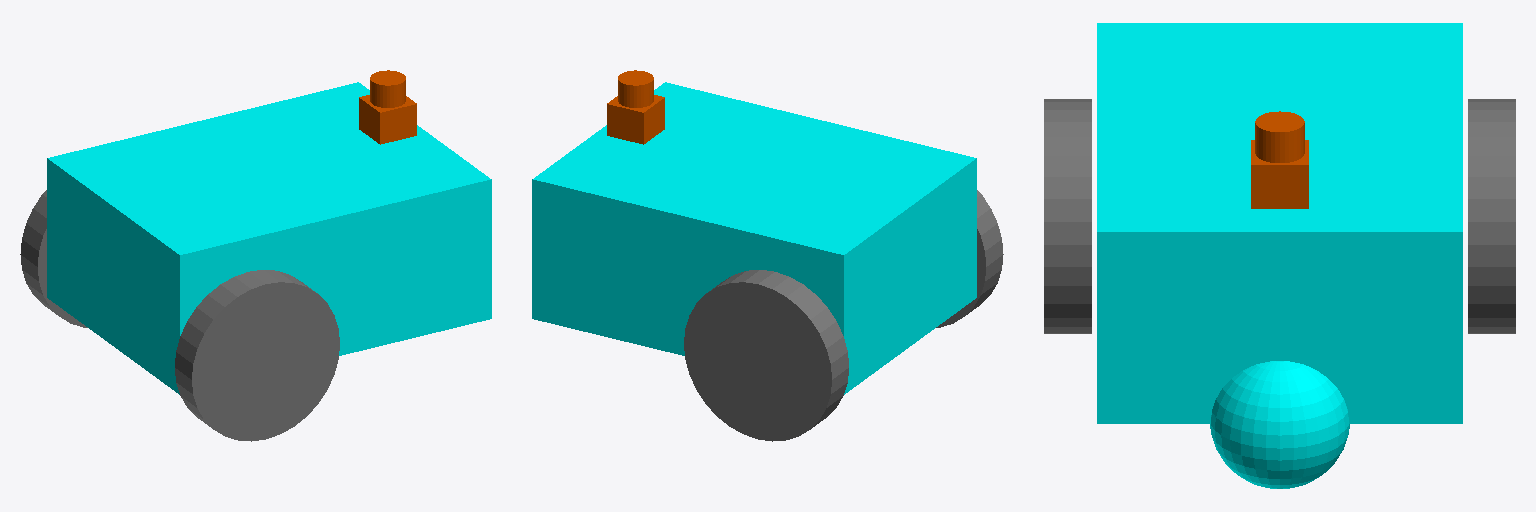
The robot description file, URDF, robot "orthopillar":
<?xml version="1.0"?>
<robot name="orthopillar"
  xmlns:xacro="http://ros.org/wiki/xacro">
  <!-- _________________________________________________________Color_________________________________________________________-->

  <material name="Cyan">
    <color rgba="0 1.0 1.0 1.0"/>
  </material>

  <material name="Gray">
    <color rgba="0.5 0.5 0.5 1.0"/>
  </material>

  <!-- _________________________________________________________Robot Base_________________________________________________________ -->
  <link name="base_footprint"/>

  <joint name="base_joint" type="fixed">
    <parent link="base_footprint"/>
    <child link="base_link"/>
    <origin xyz="0.0 0.0 -0.15" rpy="0 0 0"/>
  </joint>

  <link name="base_link">
    <visual>
      <geometry>
        <box size="0.42 0.31 0.18"/>
      </geometry>
      <material name="Cyan"/>
    </visual>

    <collision>
      <geometry>
        <box size="0.42 0.31 0.18"/>
      </geometry>
    </collision>

    <inertial>
      <origin xyz="0.0 0.0 0.0" rpy="1.570796 0.0 1.570796"/>
      <mass value="15"/>
      <inertia ixx="0.261" ixy="0.0" ixz="0.0" iyy="0.340625" iyz="0.0" izz="0.160625"/>
    </inertial>
  </link>

  <!-- _________________________________________________________Wheel left_________________________________________________________ -->
  
  <joint name="drivewhl_l_joint" type="continuous">
    <parent link="base_link"/>
    <child link="drivewhl_l_link"/>
    <origin xyz="-0.12 0.18 -0.05" rpy="0 0 0"/>
    <axis xyz="0 1 0"/>
  </joint>

  <link name="drivewhl_l_link">
    <visual>
      <origin xyz="0 0 0" rpy="1.570796 0 0"/>
      <geometry>
        <cylinder radius="0.1" length="0.04"/>
      </geometry>
      <material name="Gray"/>
    </visual>

    <collision>
      <origin xyz="0 0 0" rpy="1.570796 0 0"/>
      <geometry>
        <cylinder radius="0.1" length="0.04"/>
      </geometry>
    </collision>

    <inertial>
      <origin xyz="0.0 0.0 0.0" rpy="1.570796 0.0 0.0"/>
      <mass value="0.5"/>
      <inertia ixx="0.001" ixy="0.0" ixz="0.0" iyy="0.001" iyz="0.0" izz="0.0025"/>
    </inertial>

  </link>

  <!-- _________________________________________________________Wheel right_________________________________________________________ -->
  
  <joint name="drivewhl_r_joint" type="continuous">
    <parent link="base_link"/>
    <child link="drivewhl_r_link"/>
    <origin xyz="-0.12 -0.18 -0.05" rpy="0 0 0"/>
    <axis xyz="0 1 0"/>
  </joint>

  <link name="drivewhl_r_link">
    <visual>
      <origin xyz="0 0 0" rpy="1.570796 0 0"/>
      <geometry>
        <cylinder radius="0.1" length="0.04"/>
      </geometry>
      <material name="Gray"/>
    </visual>

    <collision>
      <origin xyz="0 0 0" rpy="1.570796 0 0"/>
      <geometry>
        <cylinder radius="0.1" length="0.04"/>
      </geometry>
    </collision>

    <inertial>
      <origin xyz="0.0 0.0 0.0" rpy="1.570796 0.0 0.0"/>
      <mass value="0.5"/>
      <inertia ixx="0.001" ixy="0.0" ixz="0.0" iyy="0.001" iyz="0.0" izz="0.0025"/>
    </inertial>

  </link>

  <!-- _________________________________________________________Caster Wheel_________________________________________________________ -->

  <joint name="caster_joint" type="fixed">
    <parent link="base_link"/>
    <child link="front_caster"/>
    <origin xyz="0.2 0.0 -0.09" rpy="0 0 0"/>
  </joint>

  <link name="front_caster">
    <visual>
      <geometry>
        <sphere radius="0.06"/>
      </geometry>
      <material name="Cyan"/>
    </visual>

    <collision>
      <origin xyz="0 0 0" rpy="0 0 0"/>
      <geometry>
        <sphere radius="0.06"/>
      </geometry>
    </collision>

    <inertial>
      <origin xyz="0.0 0.0 0.0" rpy="0.0 0.0 0.0"/>
      <mass value="0.05"/>
      <inertia ixx="0.000072" ixy="0.0" ixz="0.0" iyy="0.000072" iyz="0.0" izz="0.000072"/>
    </inertial>

  </link>

  <!-- ___________________________________________________________________Laser___________________________________________________________________-->
  
  <joint name="laser_joint" type="fixed">
    <parent link="base_link"/>
    <child link="laser_link"/>
    <origin rpy="0  0  0" xyz="0.16 0 0.12"/>
    <axis xyz="0  0  0"/>
  </joint>

  <link name="laser_link">
    <inertial>
      <mass value="0.1"/>
      <origin rpy="0  0  0" xyz="0  0  0"/>
      <inertia ixx="0" ixy="0" ixz="0" iyy="0" iyz="0" izz="0"/>
    </inertial>

    <collision name="collision-base">
      <origin rpy="0  0  0" xyz="0  0  0"/>
      <geometry>
        <box size="0.05 0.05 0.041"/>
      </geometry>
    </collision>

    <visual name="visual-base">
      <origin rpy="0  0  0" xyz="0  0  0"/>
      <geometry>
        <box size="0.05 0.05 0.041"/>
      </geometry>
    </visual>

    <collision name="collision-top">
      <origin rpy="0  0  0" xyz="0  0  0.035"/>
      <geometry>
        <cylinder length="0.029" radius="0.021"/>
      </geometry>
    </collision>

    <visual name="visual-top">
      <origin rpy="0  0  0" xyz="0  0  0.035"/>
      <geometry>
        <cylinder length="0.029" radius="0.021"/>
      </geometry>
    </visual>

  </link>

</robot>

--- Render facts (derived) ---
3 views of the same robot in one strip: view 1: azimuth 30°, elevation 25°; view 2: azimuth 150°, elevation 25°; view 3: azimuth 270°, elevation 25° (orthographic).
Robot: orthopillar — 6 links, 5 joints (2 continuous, 3 fixed); root link base_footprint; default pose: every joint at zero.
Visible links, largest first — view 1: base_link, drivewhl_r_link, laser_link, drivewhl_l_link; view 2: base_link, drivewhl_l_link, laser_link, drivewhl_r_link; view 3: base_link, front_caster, drivewhl_l_link, drivewhl_r_link, laser_link.
Boxes of the visible links, box(x1,y1,x2,y2) form: base_link: box(47, 82, 491, 394); drivewhl_r_link: box(175, 270, 339, 441); laser_link: box(359, 70, 416, 144); drivewhl_l_link: box(20, 190, 87, 327); base_link: box(532, 82, 976, 394); drivewhl_l_link: box(684, 270, 848, 441); laser_link: box(607, 70, 664, 144); drivewhl_r_link: box(936, 190, 1003, 327); base_link: box(1097, 23, 1462, 423); front_caster: box(1210, 361, 1349, 488); drivewhl_l_link: box(1468, 99, 1515, 333); drivewhl_r_link: box(1044, 99, 1091, 333); laser_link: box(1251, 111, 1308, 208).
Size in the robot's own frame: 0.48 by 0.4 by 0.3195 metres.
Geometry: primitives only (box / cylinder / sphere), no mesh files.